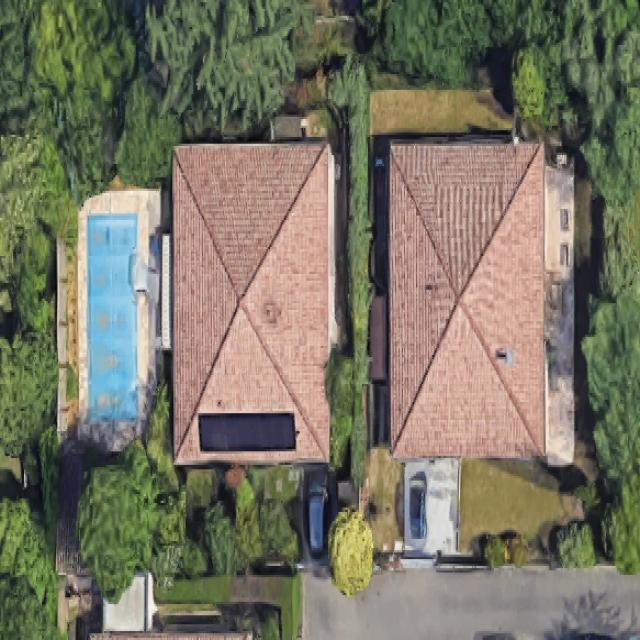maison: (380, 141, 561, 458), (172, 144, 336, 460)
